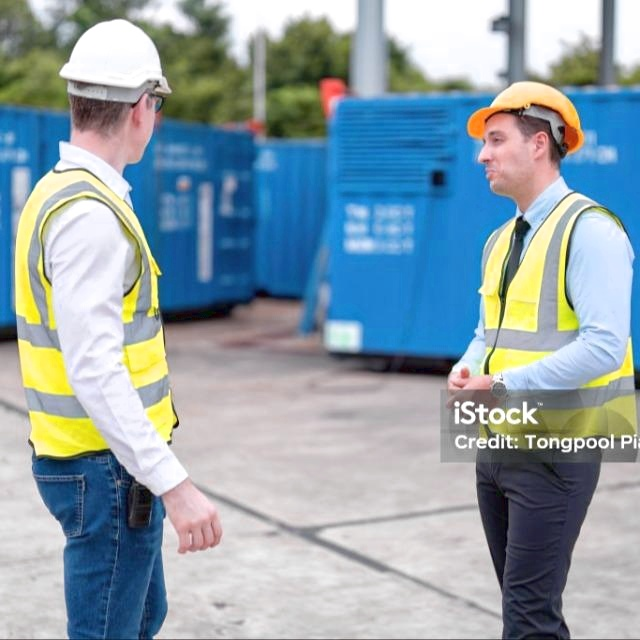Con_Casco: (62, 20, 174, 164)
Con_Chaleco: (13, 167, 174, 455)
